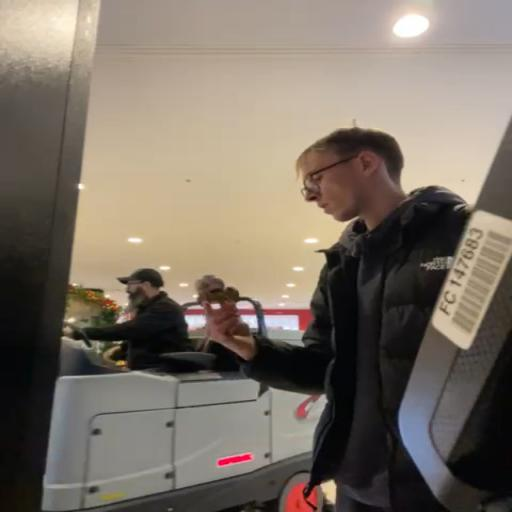kendama_ball: (195, 274, 225, 296)
